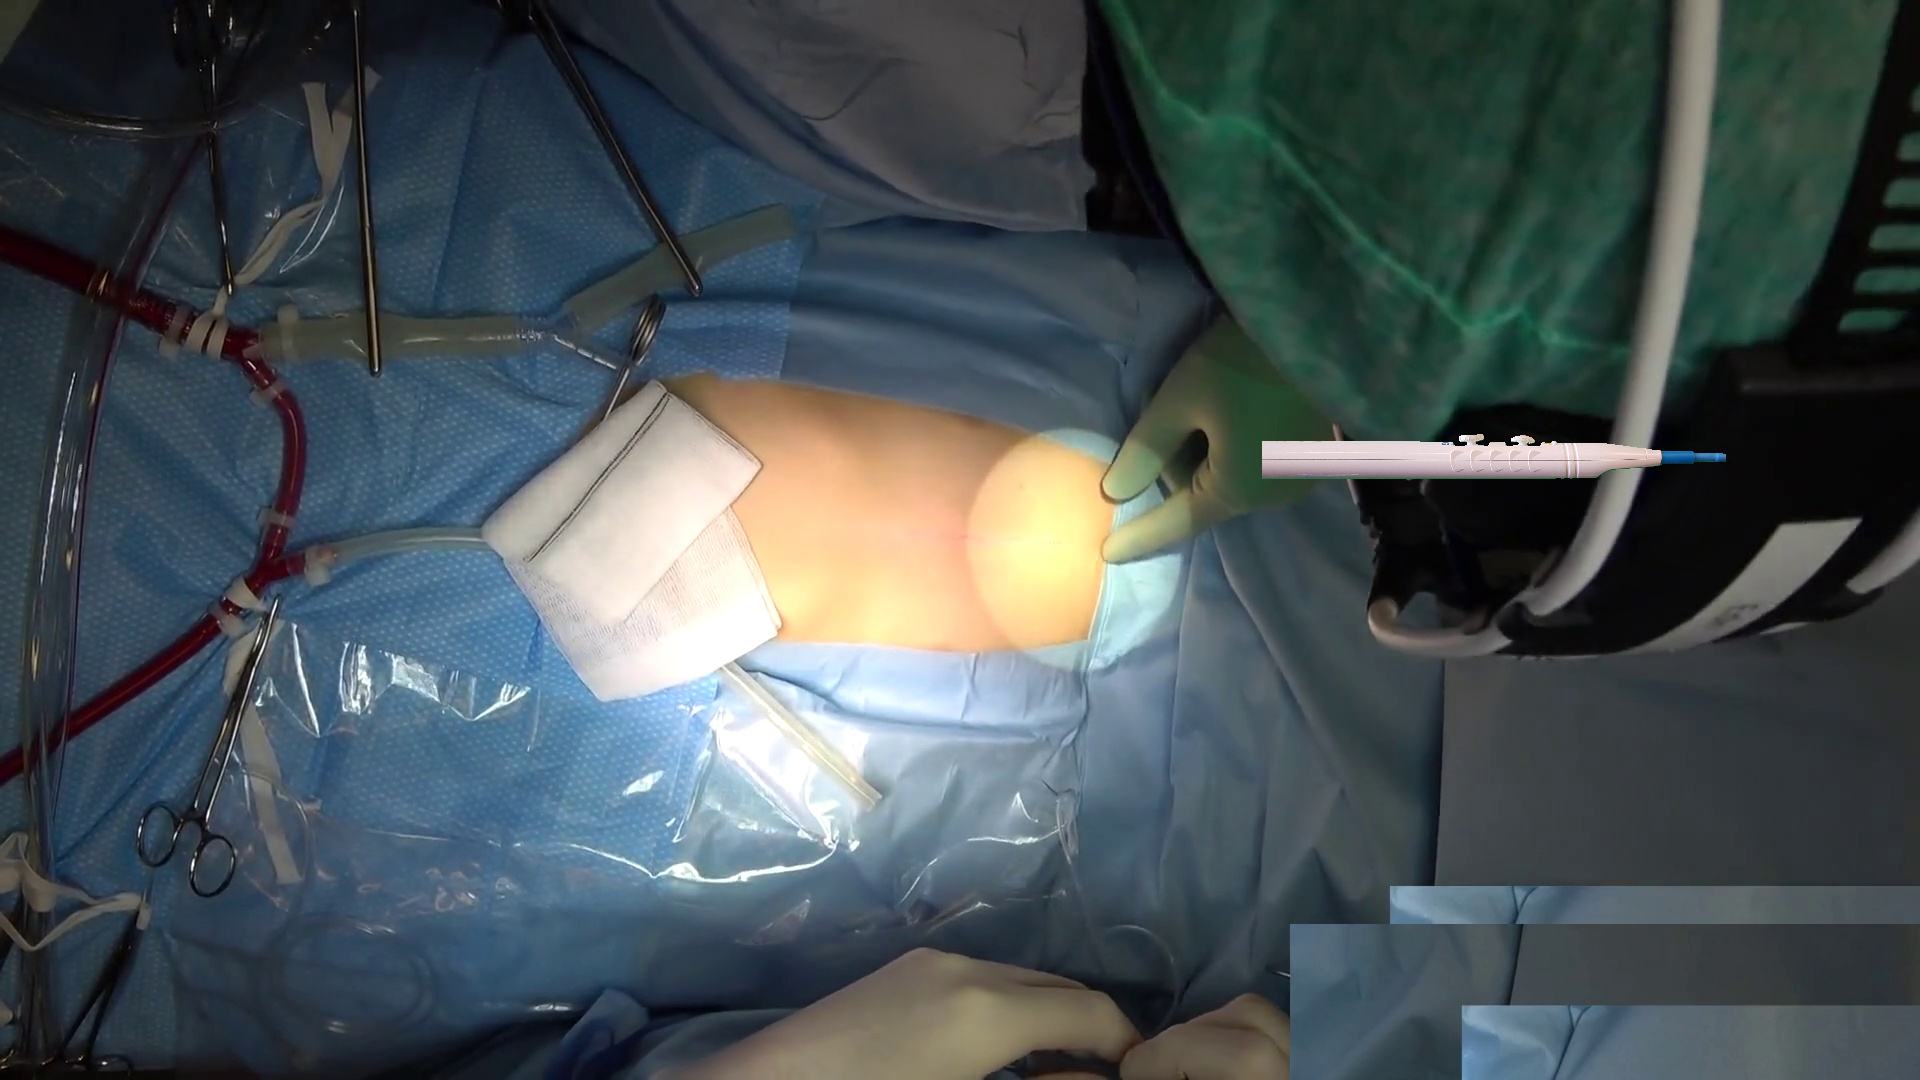diathermy: (1262, 434, 1725, 477)
